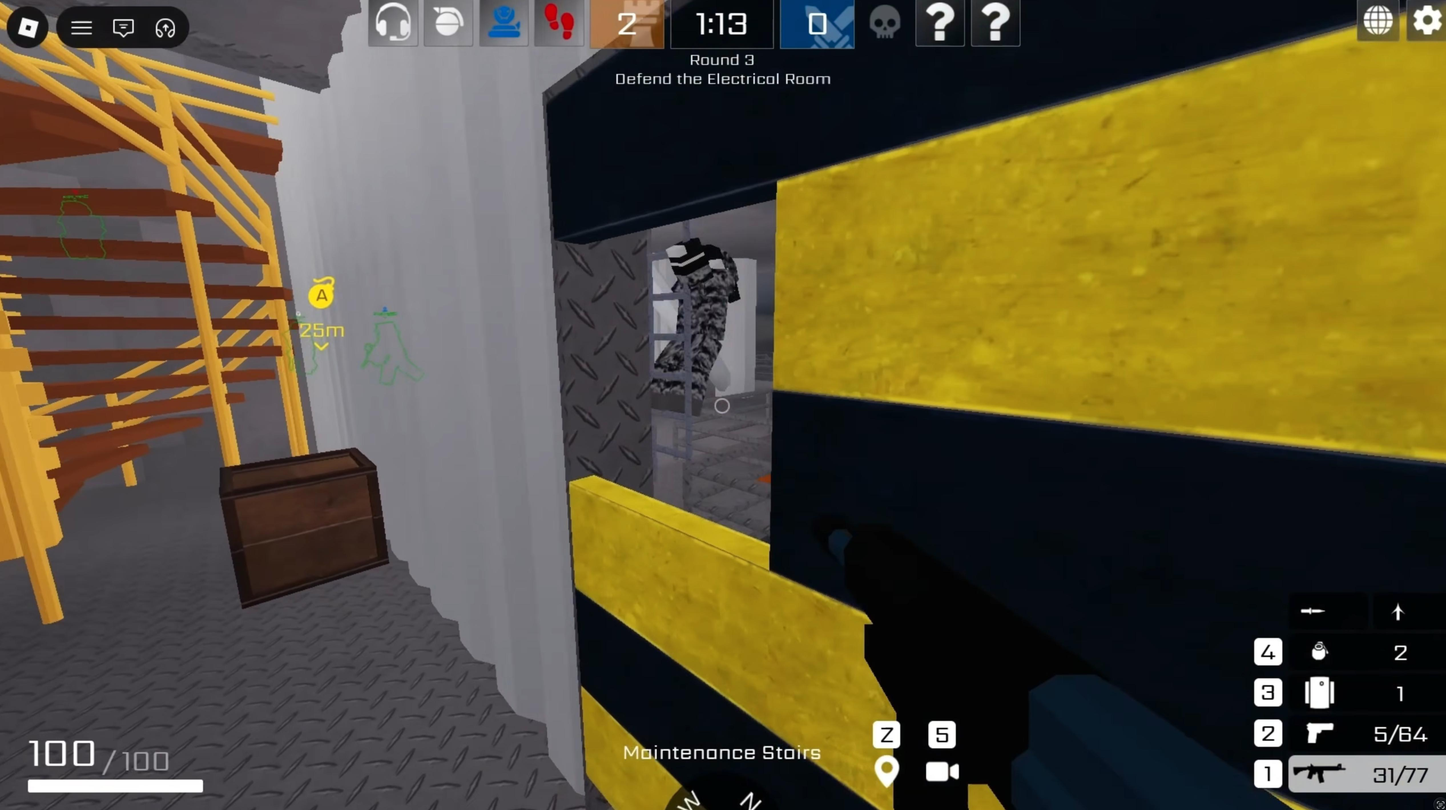enemy: (634, 219, 742, 412)
